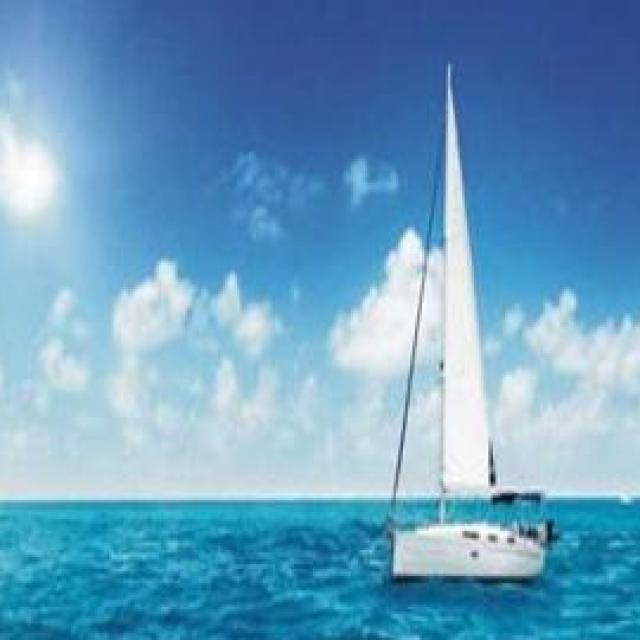sailboat: (366, 46, 558, 596)
